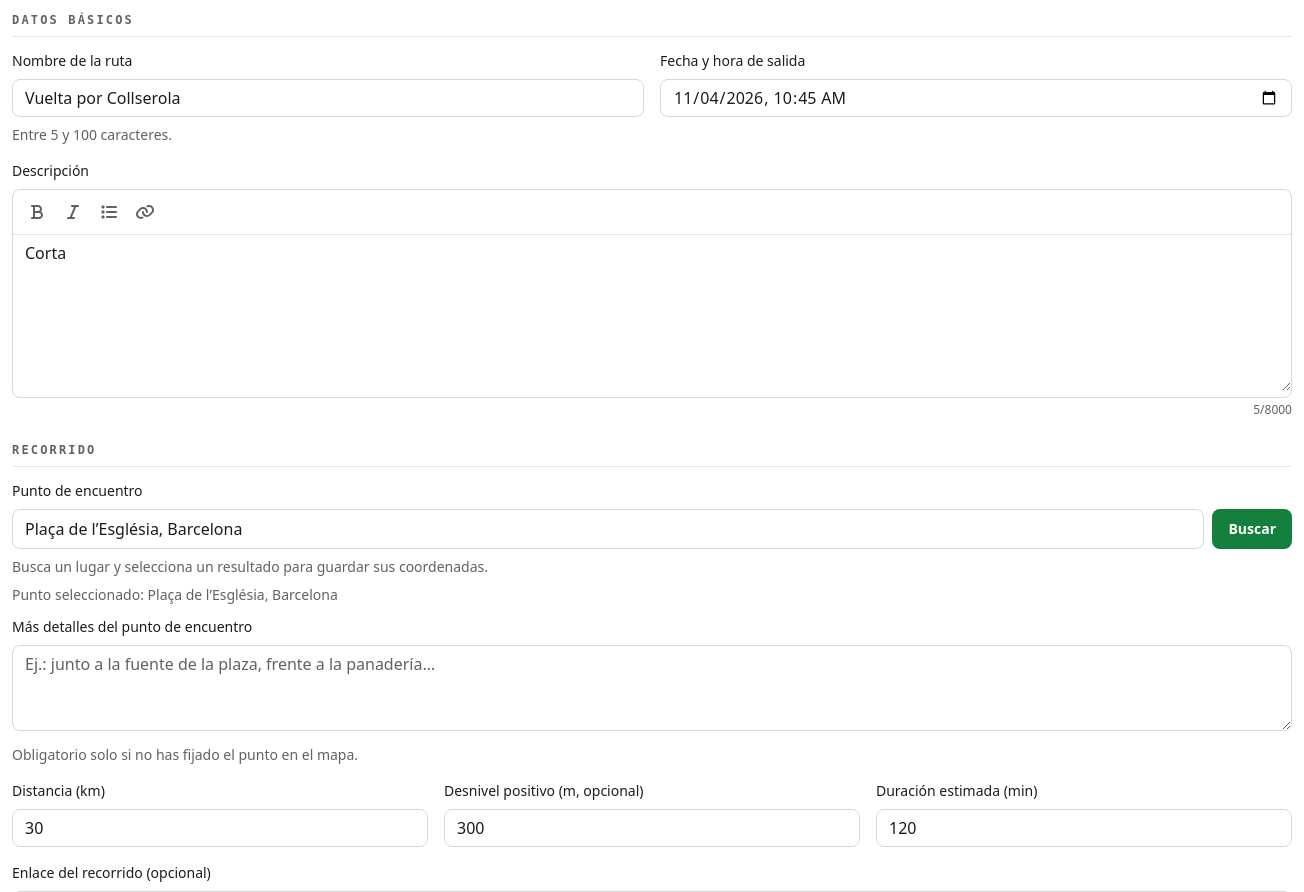
Test case: RideForm › counts the description characters as they grow
Step 1. Replace the text in the text box with id "description" with "Recorrido por pista forestal." → (652, 313), box 13,235 -> 1291,391
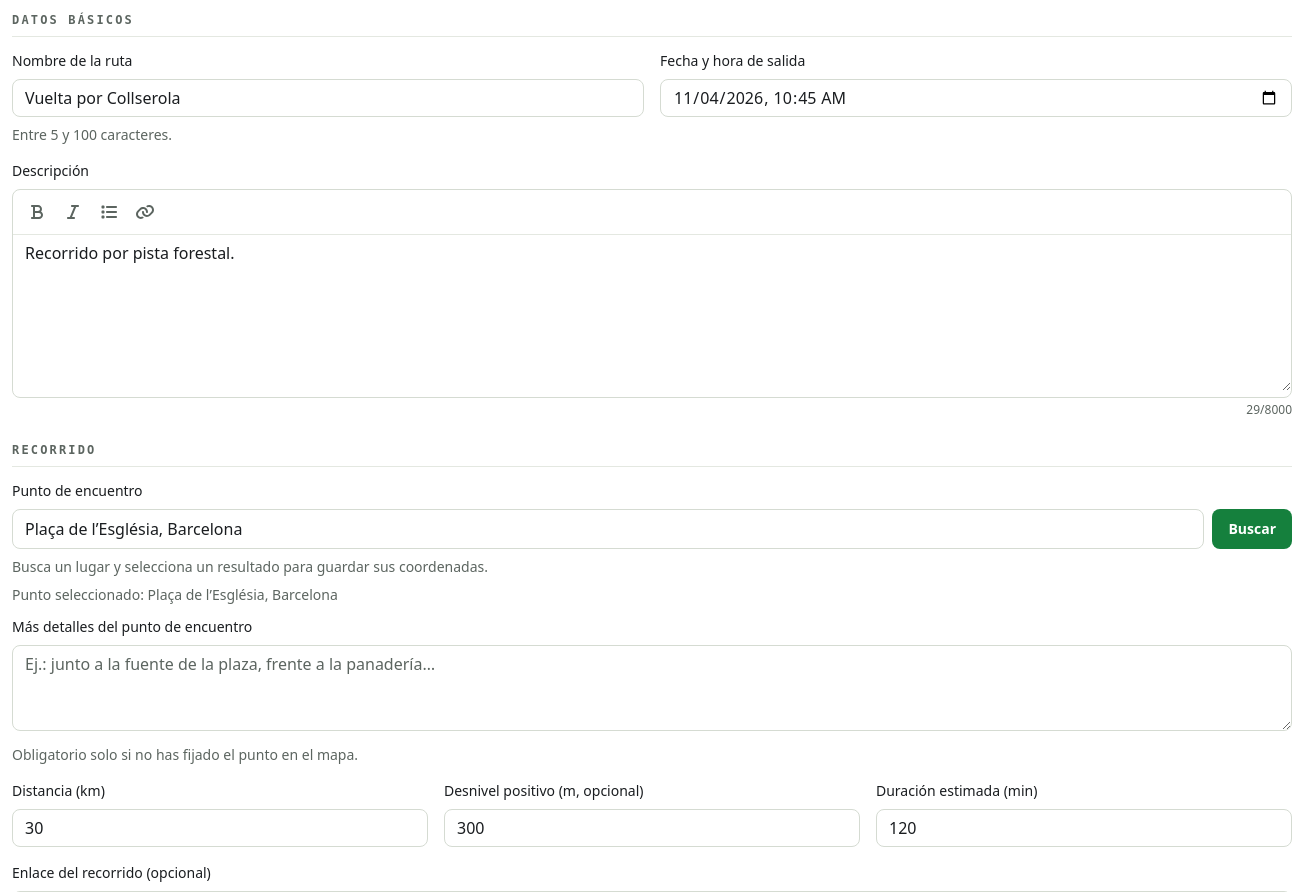
Check: the text "29/8000" is shown, box 1246,401 -> 1292,418
